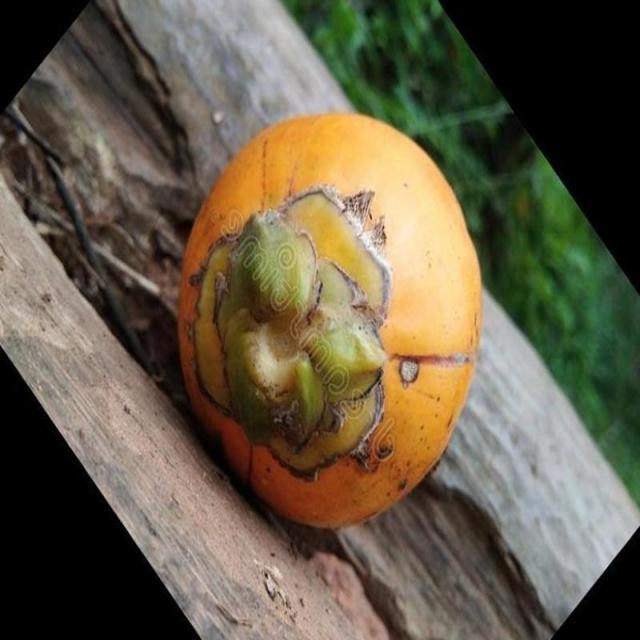good: (177, 114, 482, 531)
